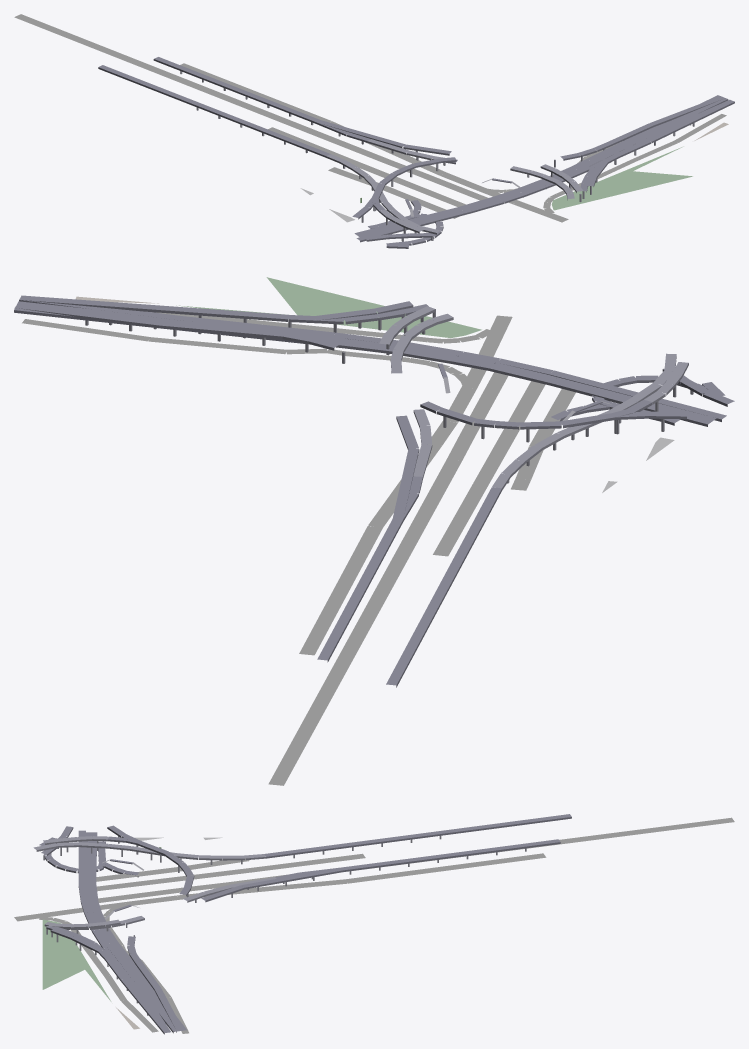
The picture shows the model from 3 angles, top to bottom: view 1: azimuth 30°, elevation 25°; view 2: azimuth 150°, elevation 25°; view 3: azimuth 270°, elevation 25°; orthographic projection. The views are drawn at different scales.
Bounding box in the file's own units: 519 × 15.97 × 706.
